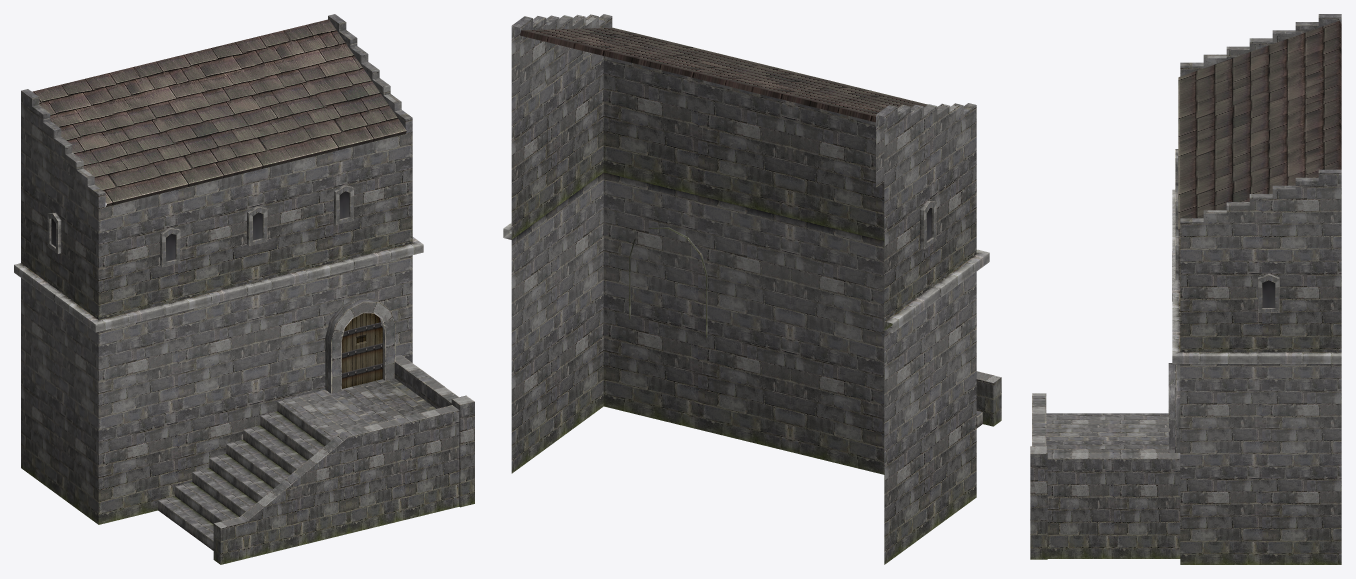
File: CastleHouse.FBX
3 renders of one model, left to right at view 1: azimuth 30°, elevation 25°; view 2: azimuth 150°, elevation 25°; view 3: azimuth 270°, elevation 25°, orthographic. The views are drawn at different scales.
Parts seen in each view (by area): view 1: CastleHouse, CastleHouseStairs, CastleHouseDoor; view 2: CastleHouse, CastleHouseStairs; view 3: CastleHouse, CastleHouseStairs, CastleHouseDoor.
Boxes of the visible parts, box(x1,y1,x2,y2) form: CastleHouse: box(14, 14, 423, 524); CastleHouseStairs: box(158, 354, 474, 564); CastleHouseDoor: box(325, 297, 395, 393); CastleHouse: box(503, 14, 989, 564); CastleHouseStairs: box(976, 371, 1001, 428); CastleHouse: box(1172, 14, 1341, 564); CastleHouseStairs: box(1030, 393, 1180, 559); CastleHouseDoor: box(1168, 363, 1180, 452).
Bounding box in the file's own units: 1305 × 1436 × 1035.
